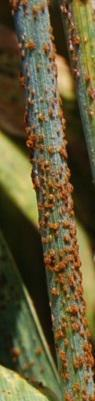Wheat: (11, 1, 80, 249)
